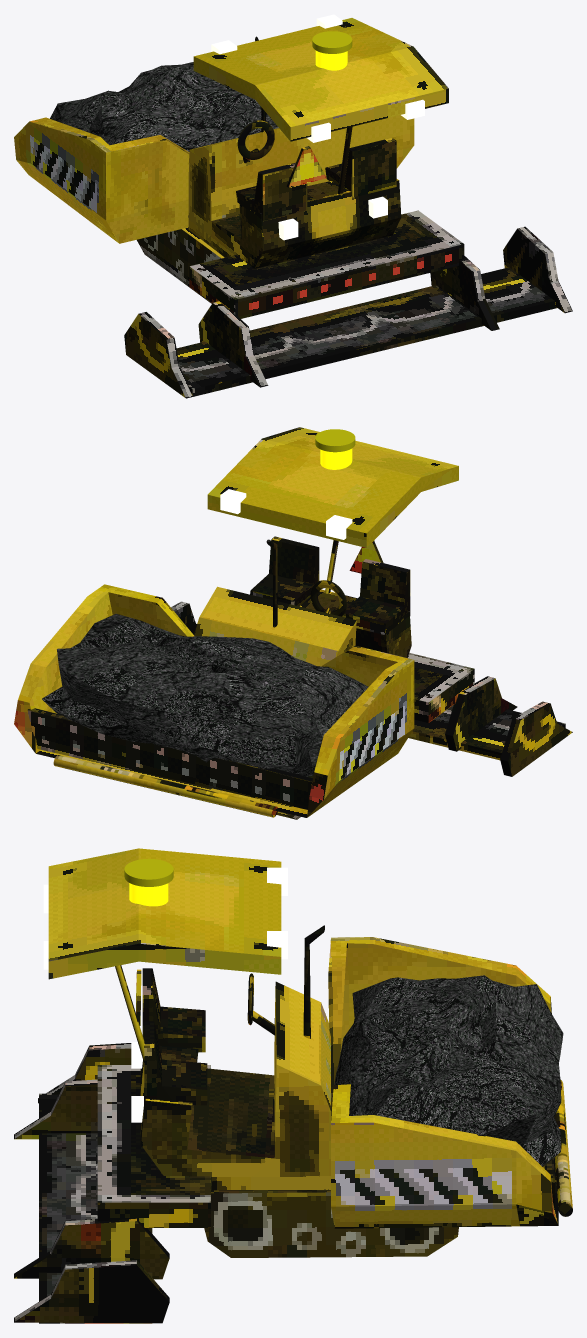
File: paver.glb
3 views of the same model, one above another, from view 1: azimuth 30°, elevation 25°; view 2: azimuth 150°, elevation 25°; view 3: azimuth 270°, elevation 25° (orthographic). The views are drawn at different scales.
Visible parts, largest first — view 1: Cube, Sphere, MeshInstance3D, light; view 2: Cube, Sphere, MeshInstance3D, light, light4, light2; view 3: Cube, Sphere, MeshInstance3D, light.
Part boxes in pixels (x1,y1,x2,y2): Cube: (14, 18, 572, 398); Sphere: (50, 62, 278, 152); MeshInstance3D: (312, 31, 352, 53); light: (315, 50, 347, 70); Cube: (14, 427, 572, 819); Sphere: (42, 613, 368, 776); MeshInstance3D: (315, 429, 355, 452); light: (320, 448, 352, 469); light4: (326, 515, 352, 539); light2: (220, 489, 246, 514); Cube: (14, 848, 572, 1323); Sphere: (332, 975, 563, 1166); MeshInstance3D: (124, 858, 173, 886); light: (129, 883, 168, 906).
Size of the model in its own units: 84.54 by 59.66 by 87.47.
Materials: 10 (2 with a texture image).
